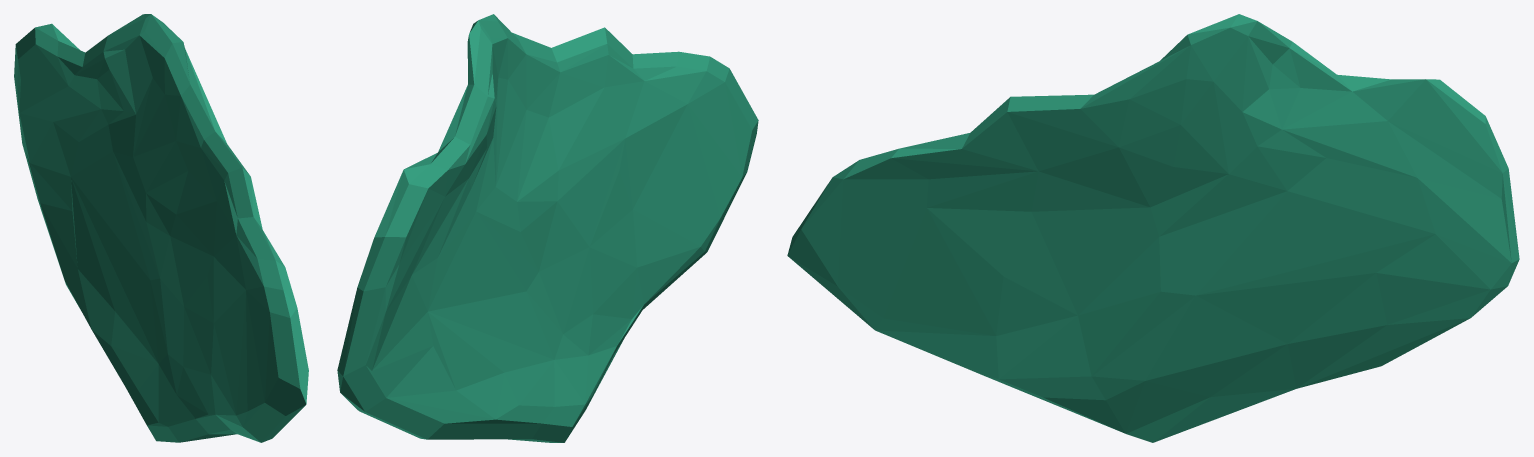
Rendered from SM_B_GiantFungi_02.fbx.
3 views of the same model, side by side, from view 1: azimuth 30°, elevation 25°; view 2: azimuth 150°, elevation 25°; view 3: azimuth 270°, elevation 25° (orthographic). The views are drawn at different scales.
Visible parts, largest first — view 1: SM_B_GiantFungi_02; view 2: SM_B_GiantFungi_02; view 3: SM_B_GiantFungi_02.
Part boxes in pixels (<box>): SM_B_GiantFungi_02: <box>14,14,308,442</box>; SM_B_GiantFungi_02: <box>337,14,758,442</box>; SM_B_GiantFungi_02: <box>787,14,1519,442</box>.
Bounding box in the file's own units: 220 × 1152 × 1725.
